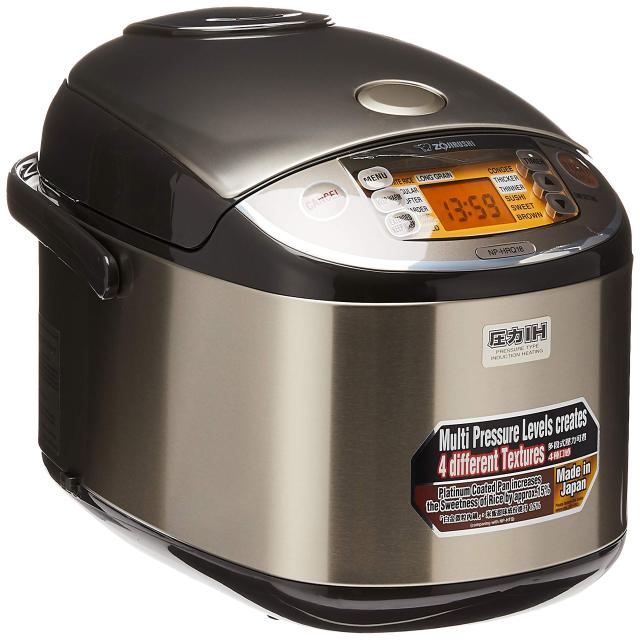appliances: (8, 8, 631, 630)
